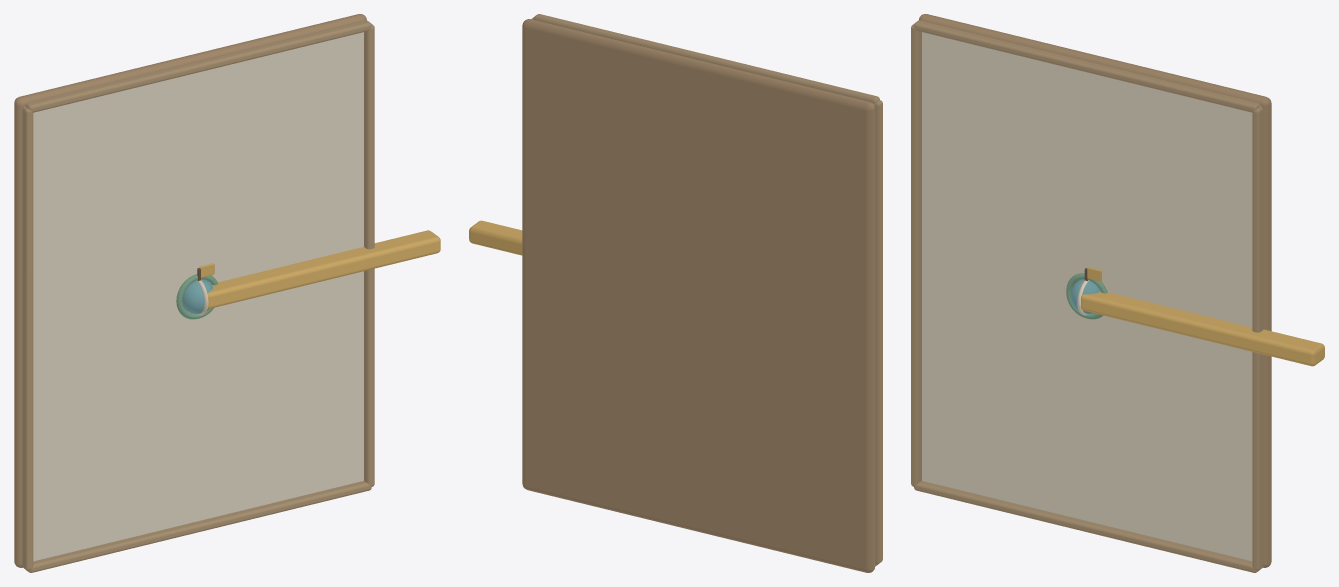
File: rolling.glb
3 views of the same model, side by side, from view 1: azimuth 30°, elevation 25°; view 2: azimuth 150°, elevation 25°; view 3: azimuth 330°, elevation 25° (orthographic).
Visible parts, largest first — view 1: part (×9); view 2: part (×4); view 3: part (×7).
Part boxes in pixels (box(x1,y1,x2,y2)): part (×9): box(14, 14, 440, 572); part (×4): box(469, 14, 882, 572); part (×7): box(911, 14, 1324, 572).
Bounding box in the file's own units: 419 × 458 × 35.6.
